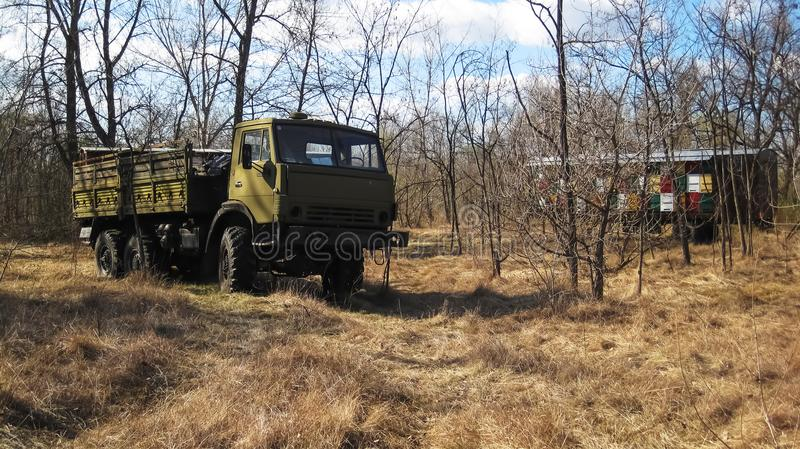camion: (70, 122, 393, 285)
